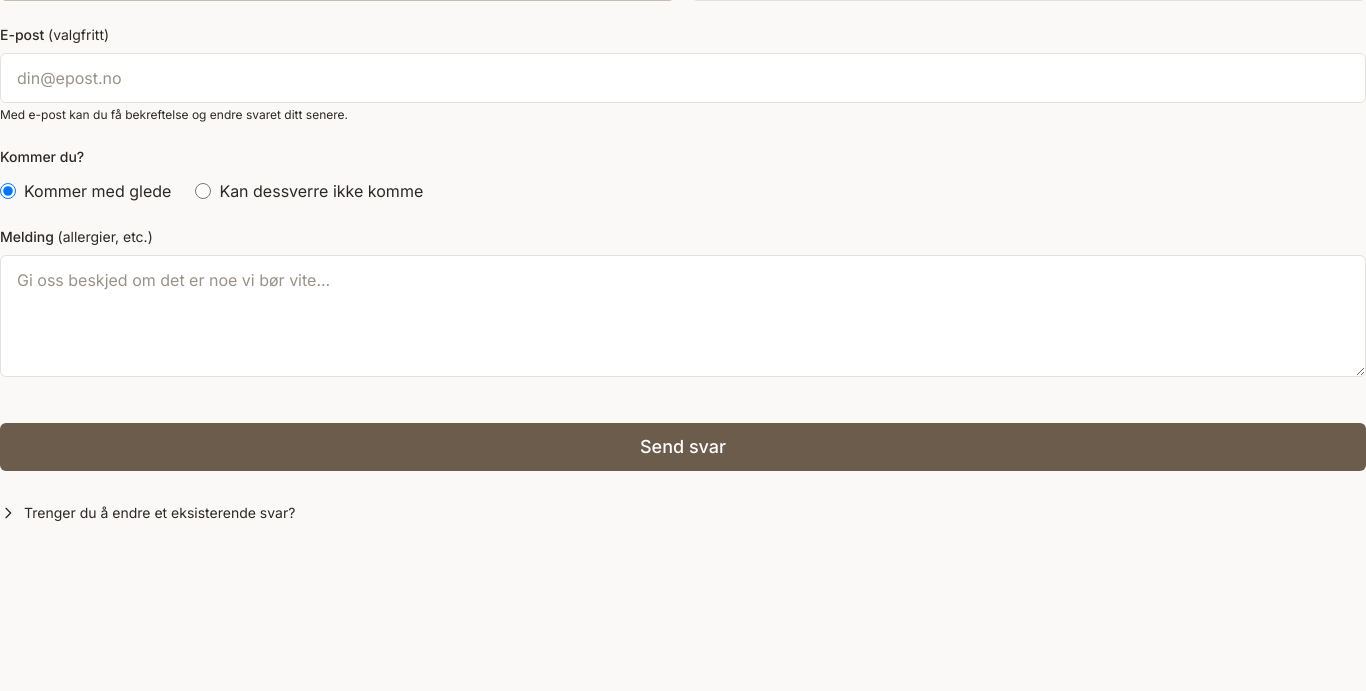
Test case: RSVPForm › dev generate token fills pasted token
# fill email using specific id
Type "bob@example.com" into the field with id "email".
click(683, 78); type("bob@example.com")  # box [0, 53, 1365, 103]
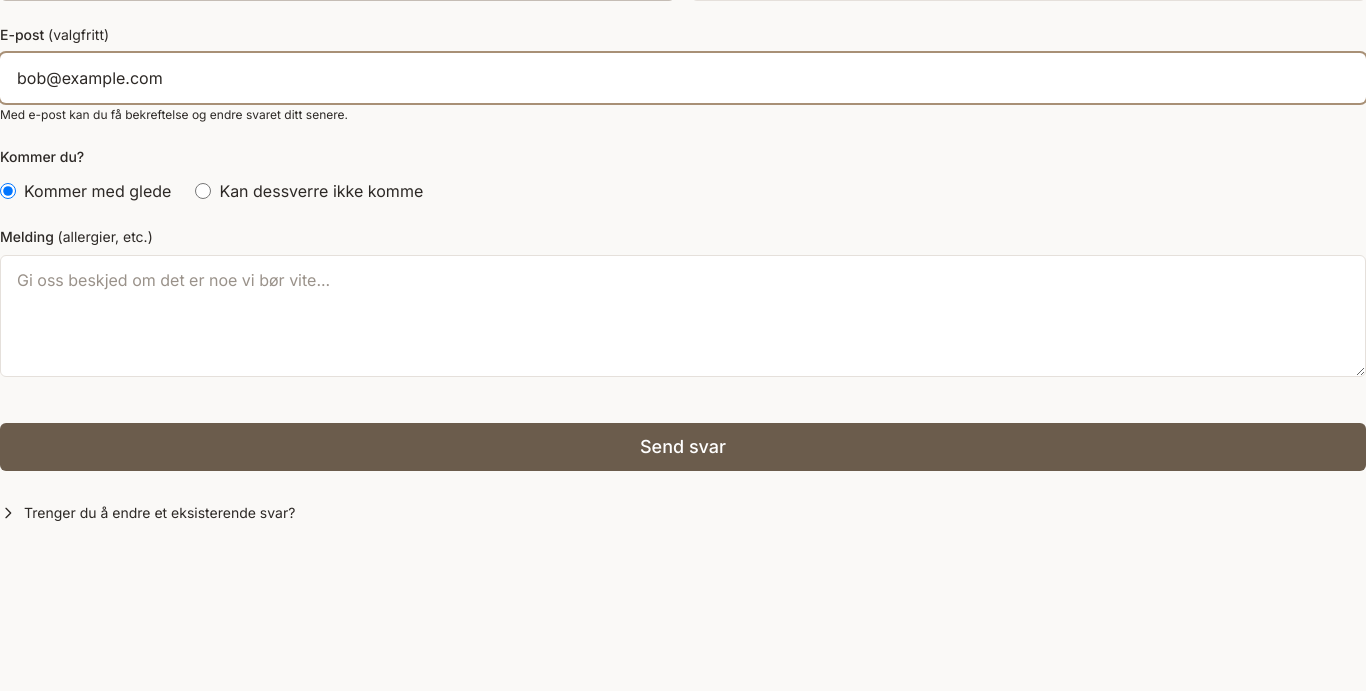
# Expand the token management section (it's in a details element now)
Click the heading "Trenger du å endre et eksisterende svar?".
click(148, 512)  # box [0, 504, 295, 521]
(page scrolled)
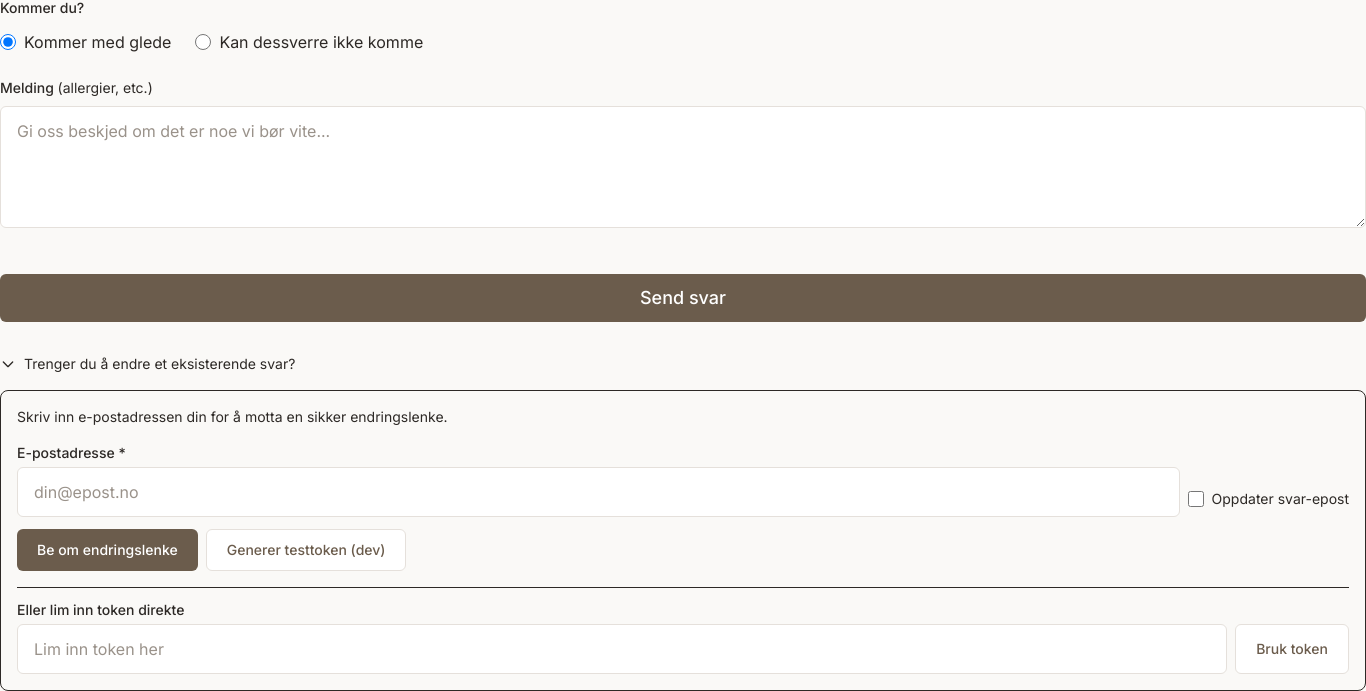
Click the button "Generer testtoken (dev)".
click(306, 550)  # box [206, 529, 406, 571]
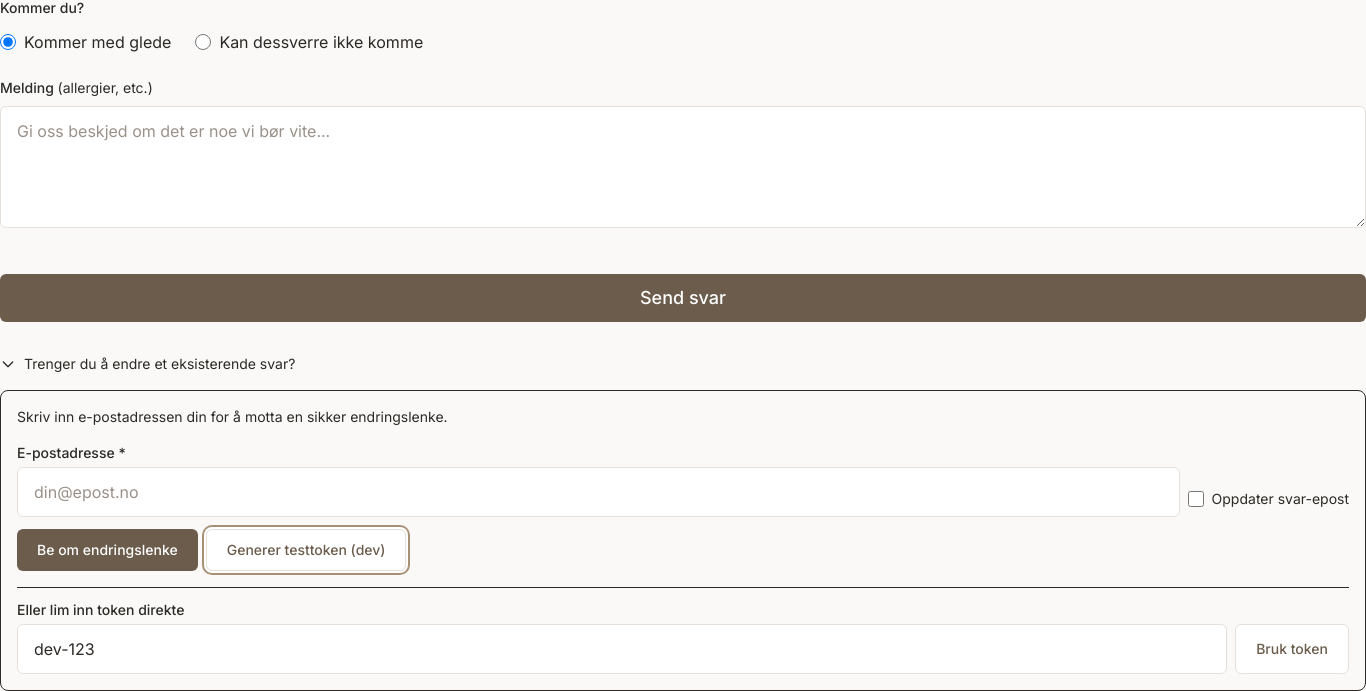
Expected: the field with placeholder "Lim inn token her" holds "dev-123", [17, 624, 1227, 674]
